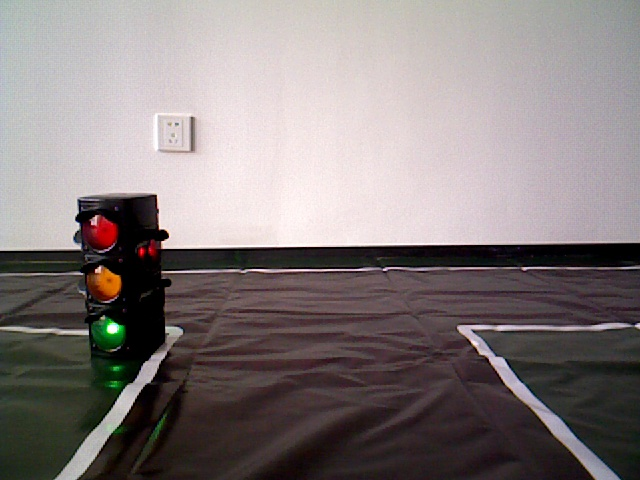green: (76, 197, 162, 349)
